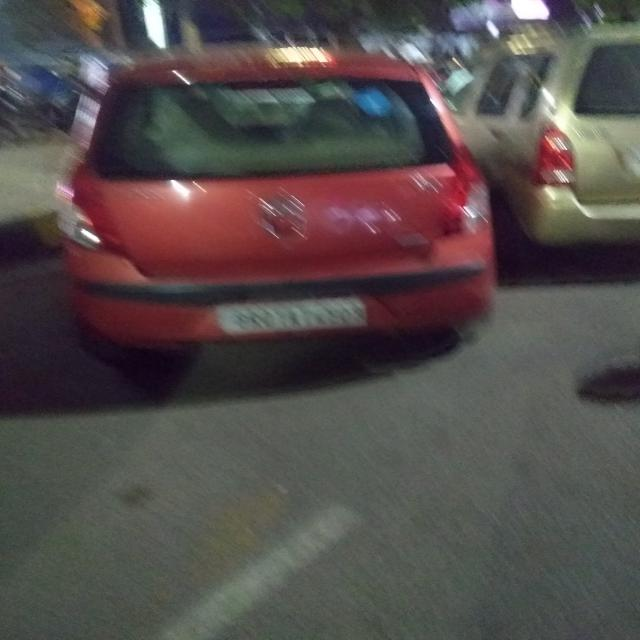Number-Plate: (216, 302, 359, 337)
